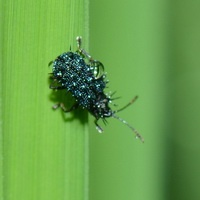insect: (49, 36, 143, 142)
